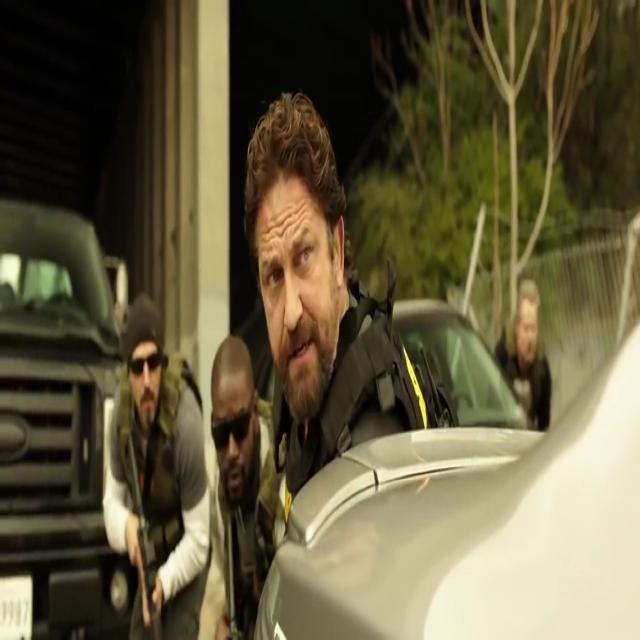Weapon: (101, 386, 180, 600)
